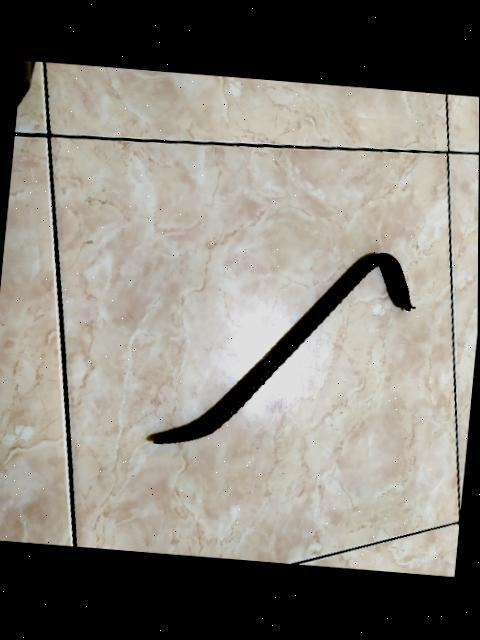crow bar: (134, 226, 420, 444)
